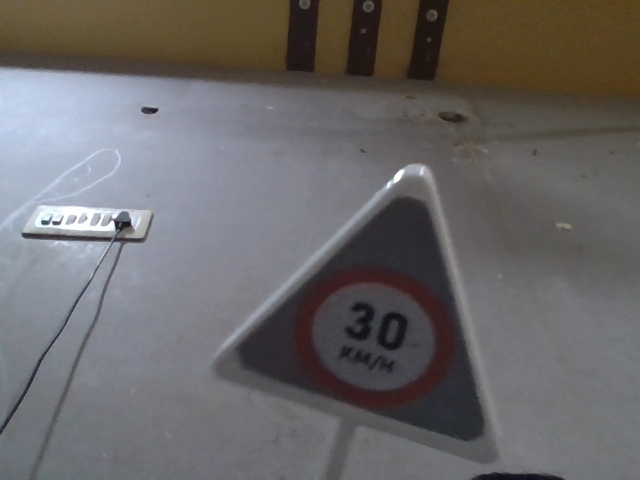speedlimit: (215, 186, 510, 462)
